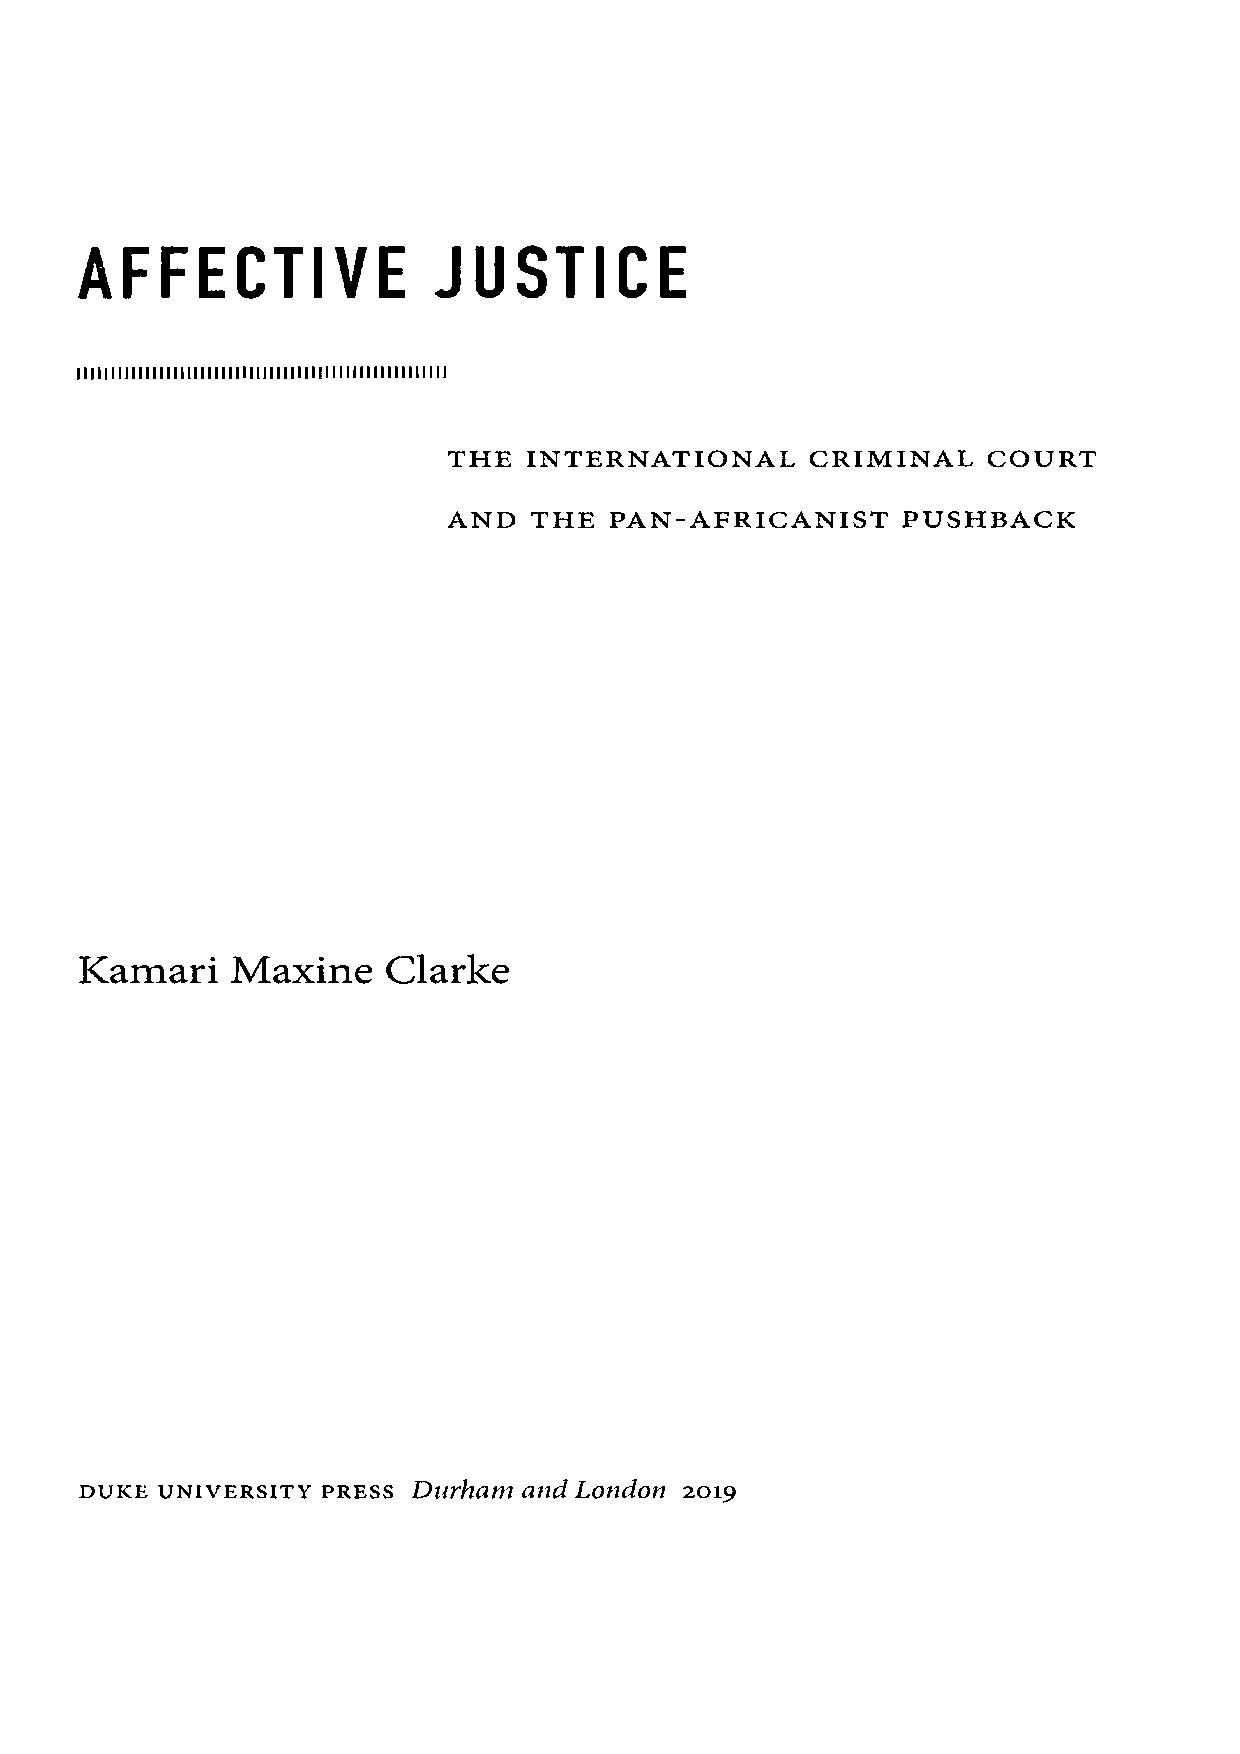author: (72, 950, 511, 986)
title: (72, 244, 691, 303)
